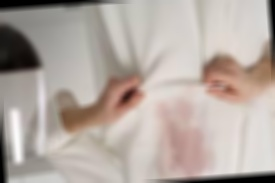wine: (149, 100, 214, 176)
